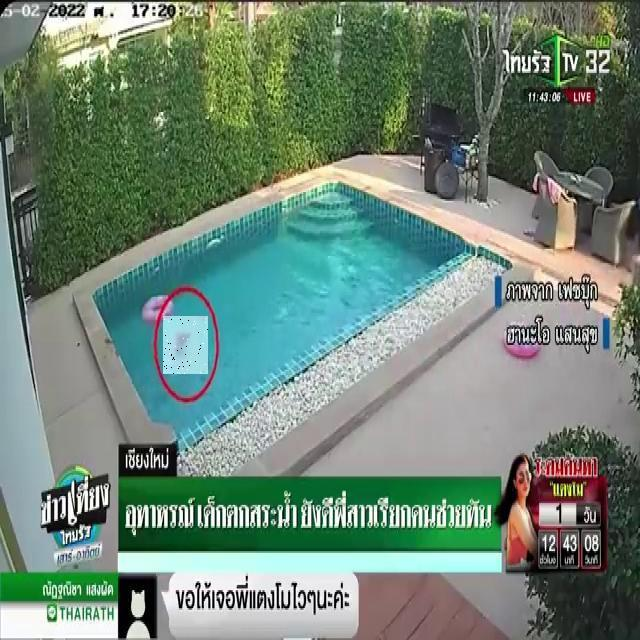Out of Water: (163, 316, 208, 374)
